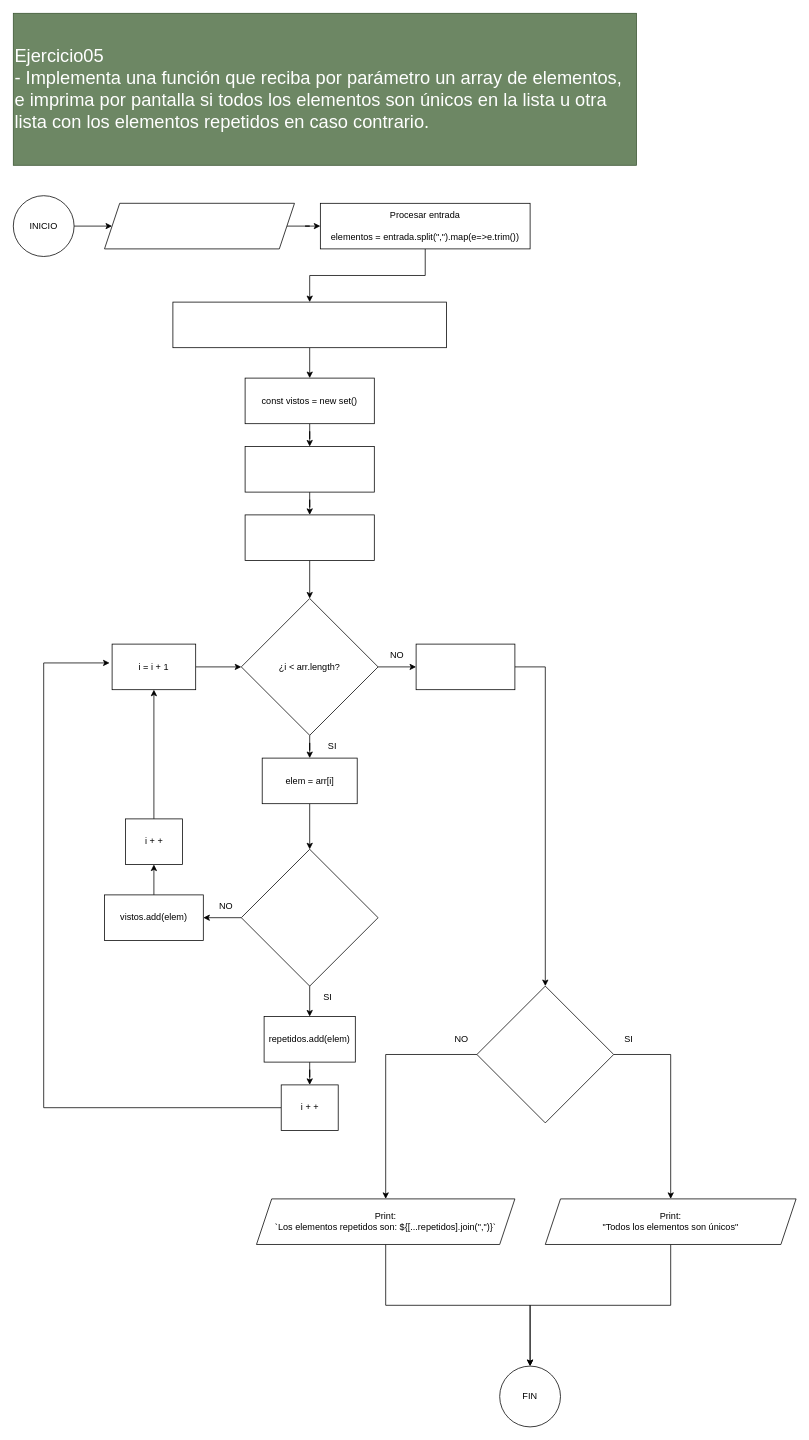
Some shapes in this 809 by 1440 pixel diagram are drawn without their labels. Here are the shapes that lost their labels. From the top down, the centre of each, then its label:
(199,226): Leer entrada "Introduce lista de elementos"
(309,324): verificar elementos unicos Subdiagrama
(309,469): const repetidos = new set ()
(309,537): i = 0
(465,666): comprobar repetidos
(309,917): ¿ vistos.has(elem)?
(545,1054): ¿ repetidos.size = = = 0 ?
